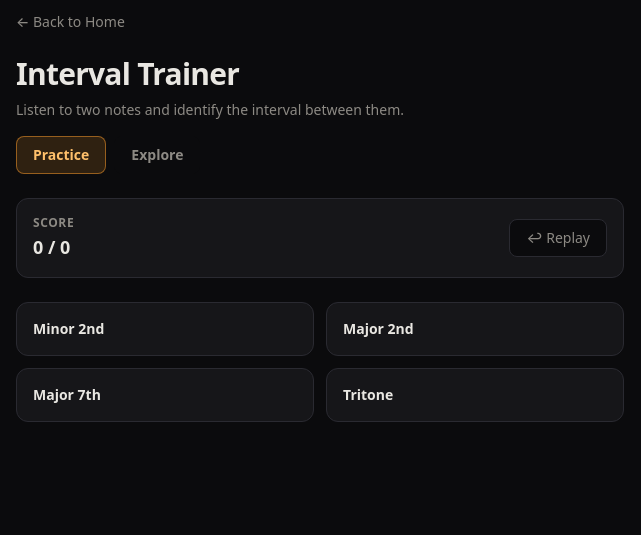
Test: IntervalTrainer › correct answer flow › answer buttons are disabled after selecting an answer
What coordinates should you click on to do the following:
click the button "Minor 2nd"
I would click on:
 (69, 328)
Its box is [16,302,314,356].
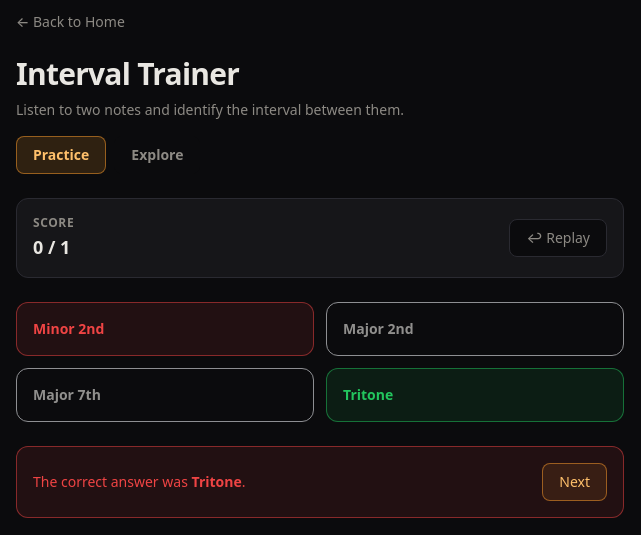
Now the button "Minor 2nd" is disabled, box [16,302,314,356]
Now the button "Major 2nd" is disabled, box [326,302,624,356]
Now the button "Major 7th" is disabled, box [16,368,314,422]
